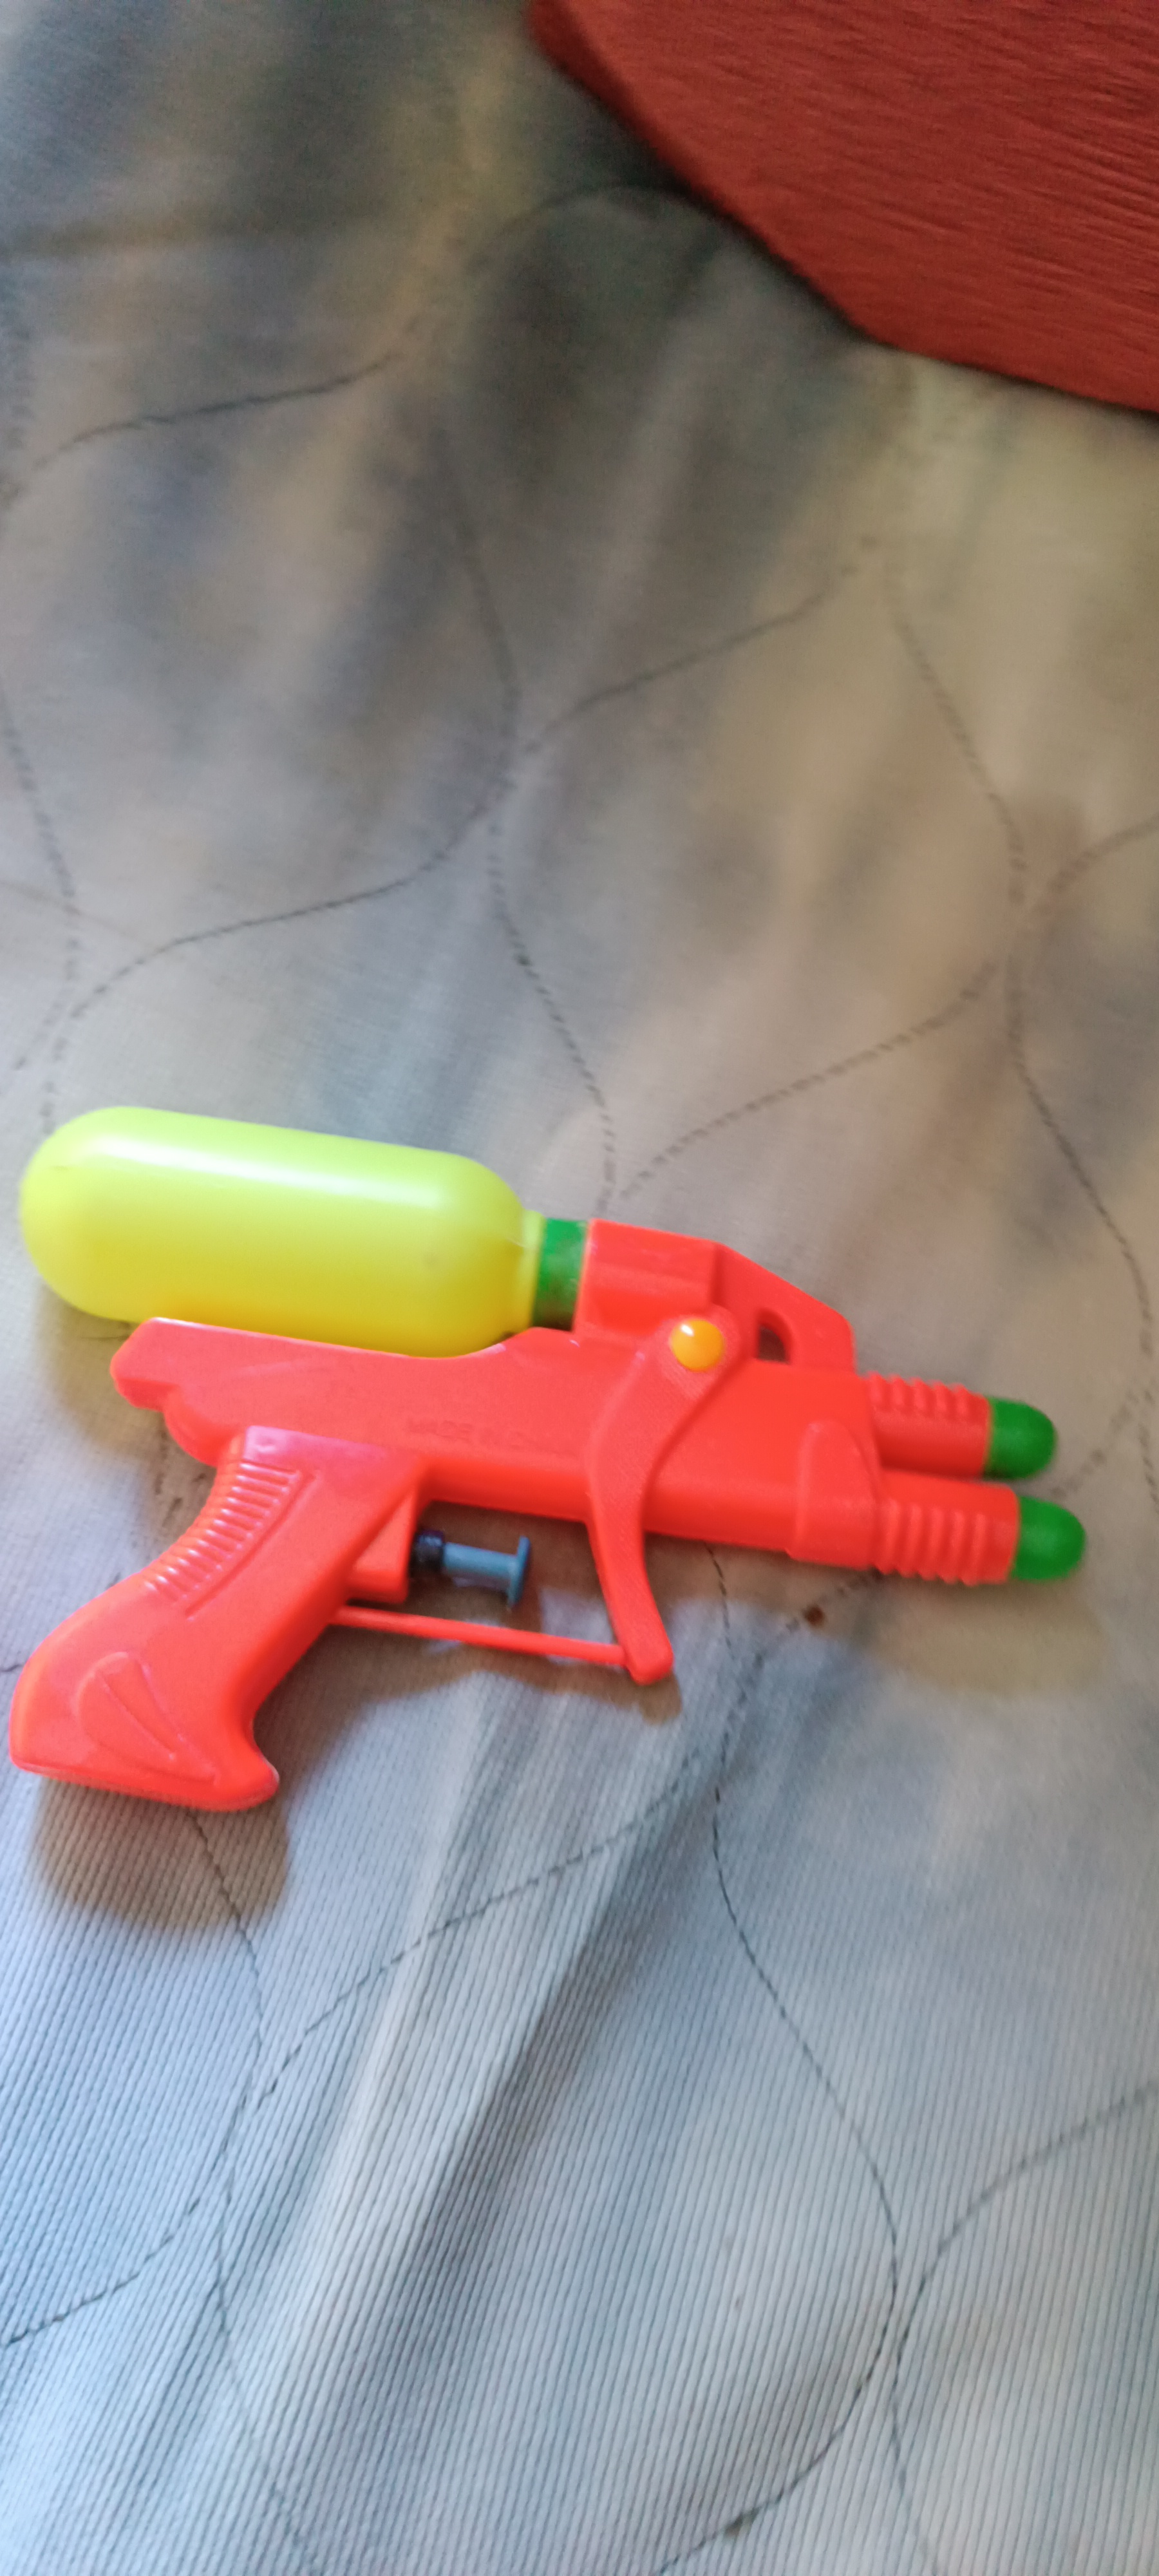Water Gun: (8, 1106, 1088, 1810)
